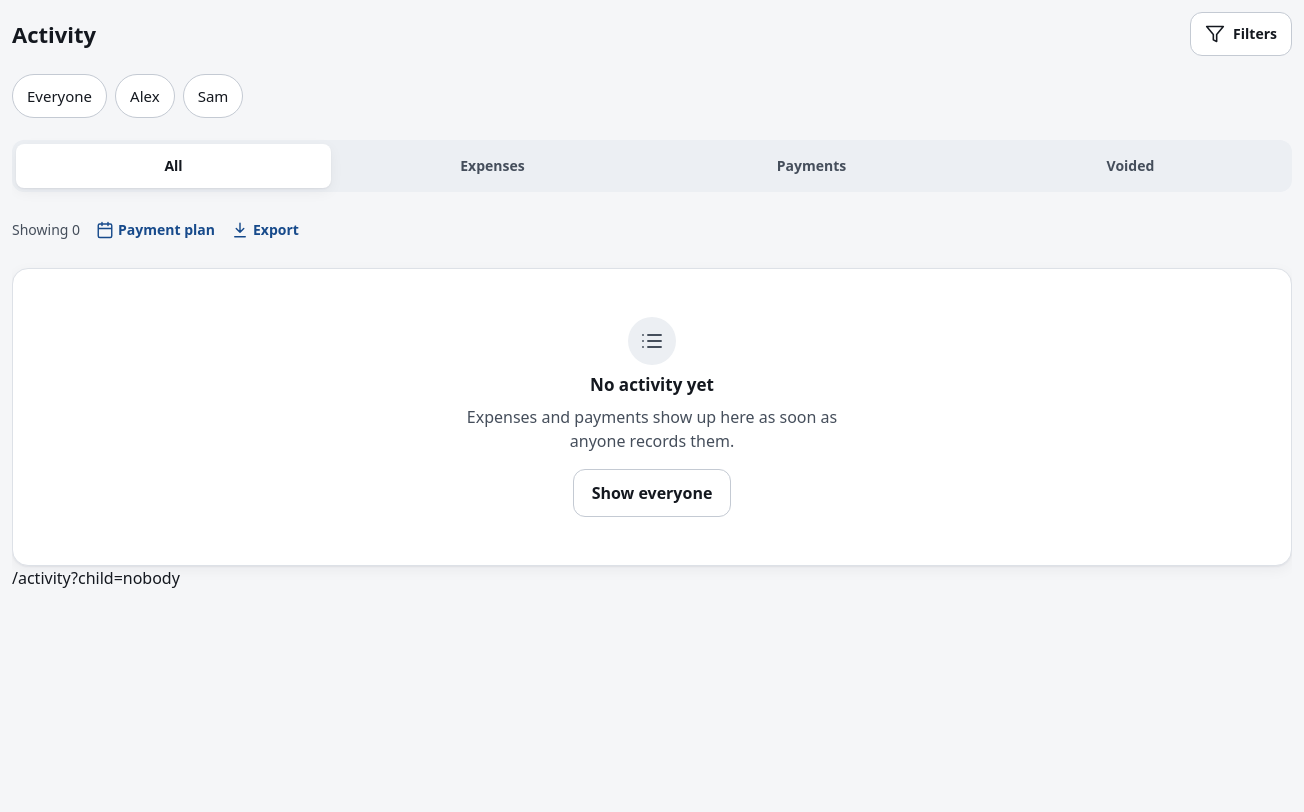
ActivityPage as a Parent › shows an empty state, not a crash, for an unknown child
Expected: the text "No activity yet" is shown, [590, 373, 714, 397]
Click the button "Show everyone" at point(652, 493), box [573, 469, 731, 517]
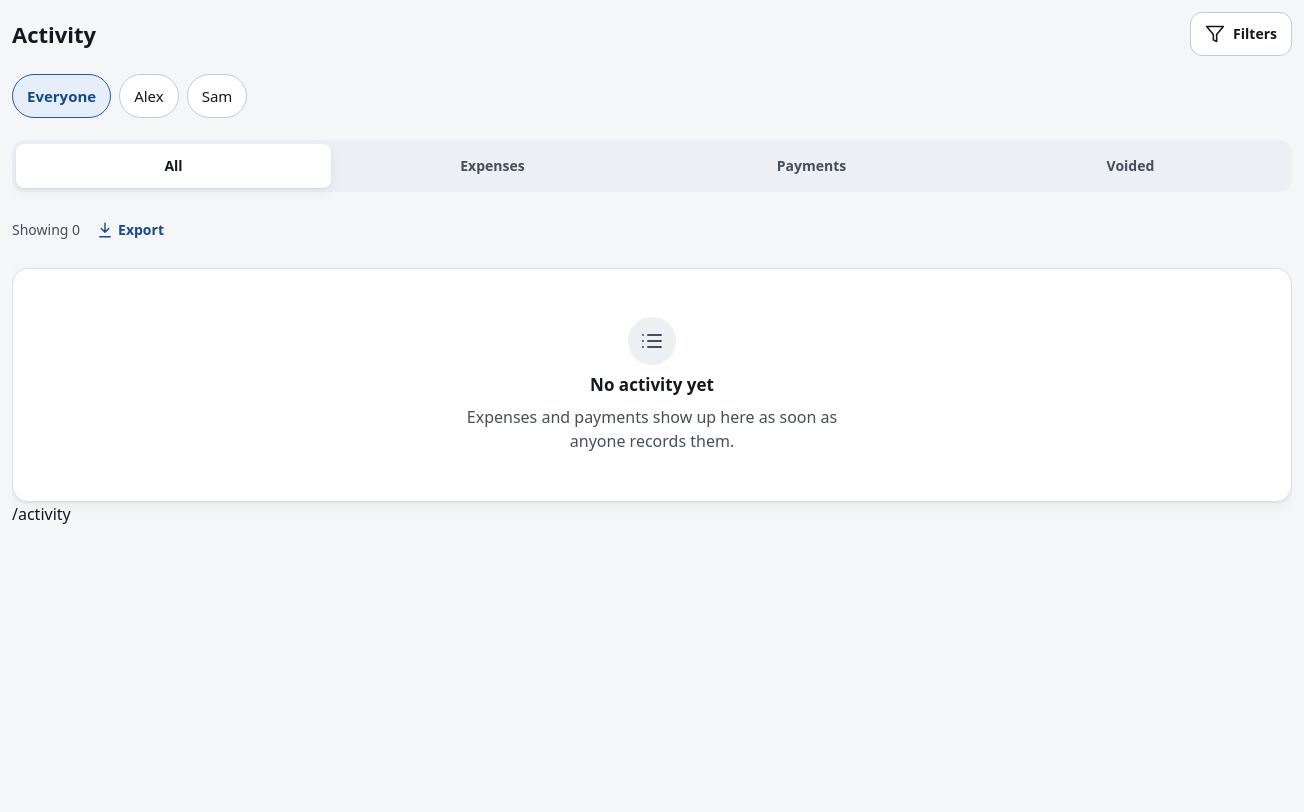
Expected: the text with test id "location" reads "/activity", [12, 503, 71, 525]
